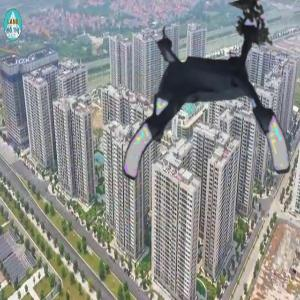drone: (107, 16, 289, 198)
